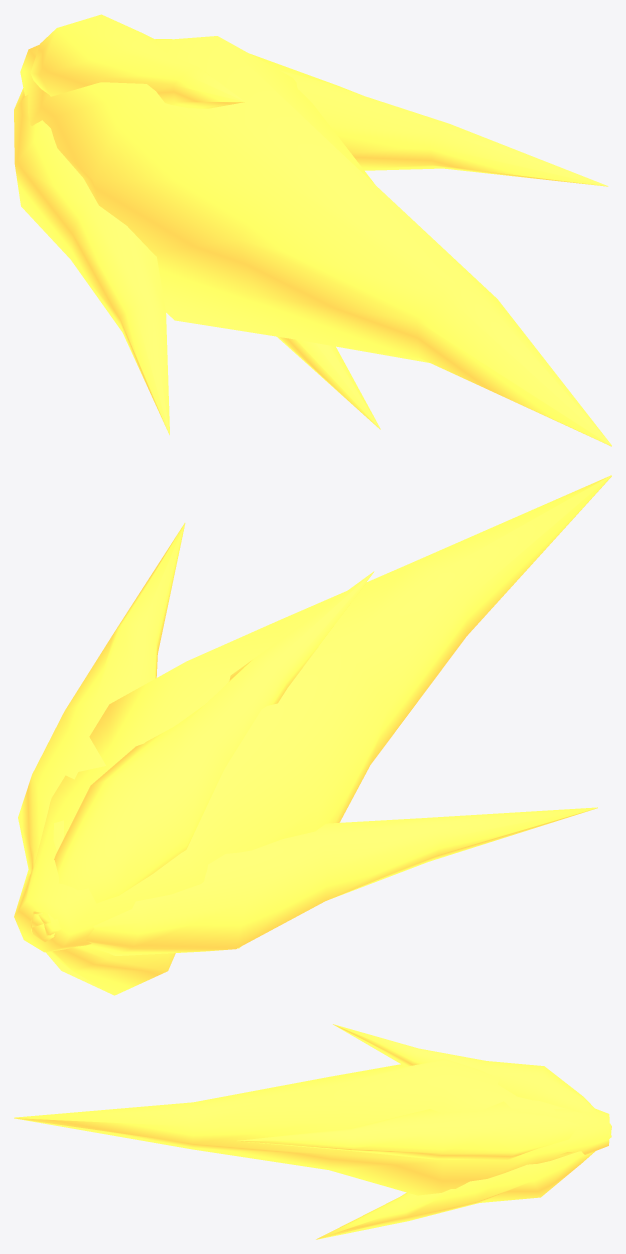
The model's file is machinegun_muzzle.glb.
3 renders of one model, top to bottom at view 1: azimuth 30°, elevation 25°; view 2: azimuth 150°, elevation 25°; view 3: azimuth 270°, elevation 25°, orthographic. The views are drawn at different scales.
Parts seen in each view (by area): view 1: Forward flame, Pressure tongue 2, Pressure tongue 0, Pressure tongue 1, Pressure tongue 3; view 2: Forward flame, Pressure tongue 2, Pressure tongue 1, Pressure tongue 0, Pressure tongue 3; view 3: Forward flame, Pressure tongue 0, Pressure tongue 3, Pressure tongue 1.
Boxes of the visible parts, x1=… form: Forward flame: x1=20, y1=36, x2=611, y2=446; Pressure tongue 2: x1=14, y1=88, x2=169, y2=434; Pressure tongue 0: x1=249, y1=53, x2=608, y2=186; Pressure tongue 1: x1=30, y1=14, x2=244, y2=108; Pressure tongue 3: x1=277, y1=336, x2=380, y2=429; Forward flame: x1=14, y1=475, x2=611, y2=952; Pressure tongue 2: x1=44, y1=807, x2=597, y2=955; Pressure tongue 1: x1=33, y1=571, x2=374, y2=923; Pressure tongue 0: x1=18, y1=523, x2=185, y2=927; Pressure tongue 3: x1=30, y1=919, x2=175, y2=995; Forward flame: x1=14, y1=1058, x2=609, y2=1195; Pressure tongue 0: x1=237, y1=1101, x2=611, y2=1160; Pressure tongue 3: x1=316, y1=1132, x2=611, y2=1239; Pressure tongue 1: x1=333, y1=1024, x2=610, y2=1128.
Size of the model in its own units: 0.2263 by 0.178 by 0.5223.
